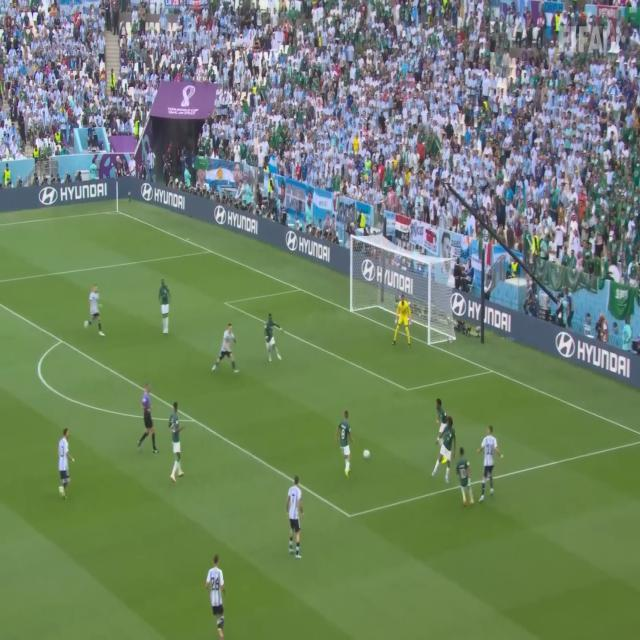football: (361, 445, 378, 462)
